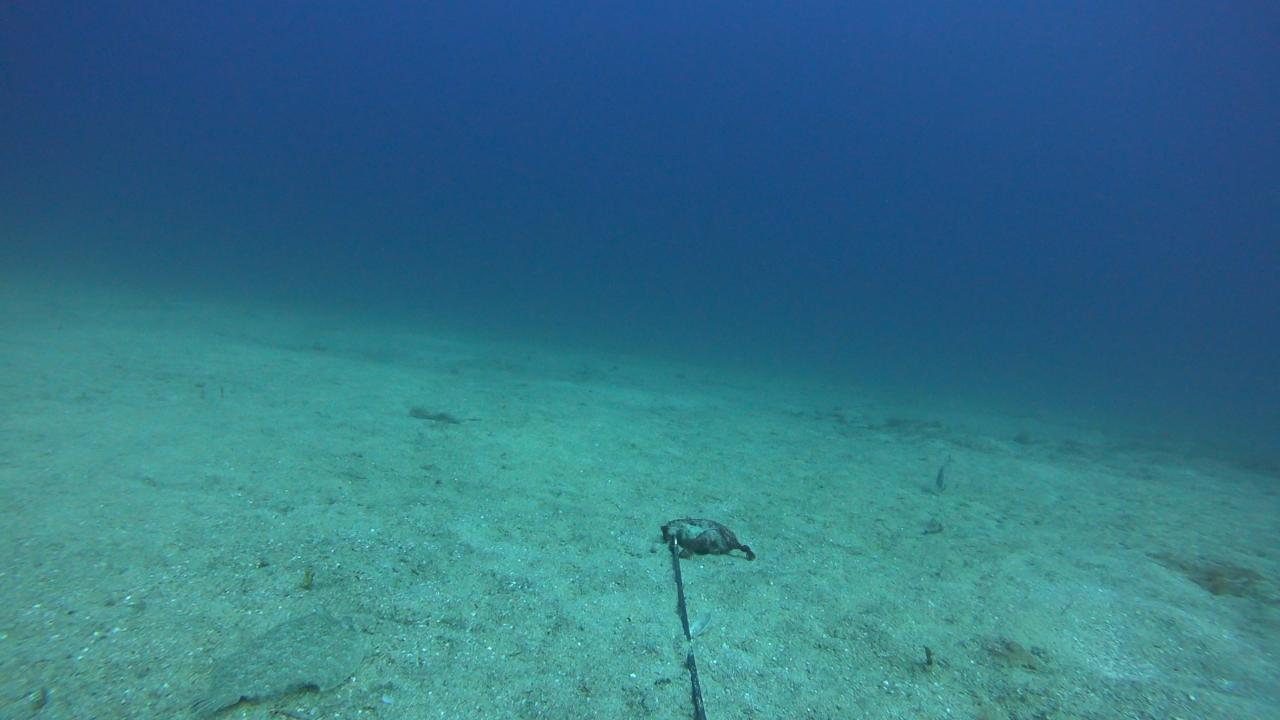bothus: (155, 601, 362, 719)
